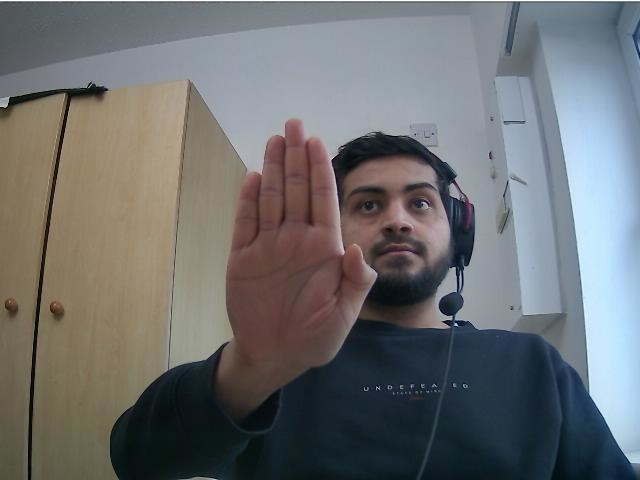up: (223, 117, 379, 370)
